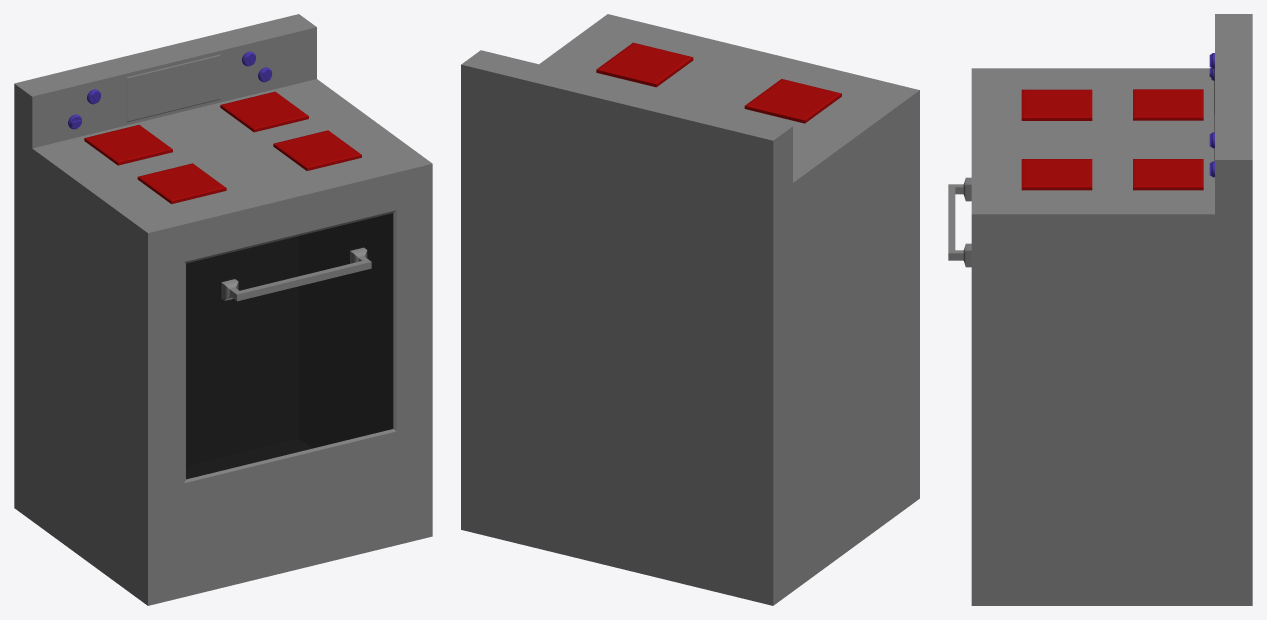
File: stove.fbx
The picture shows the model from 3 angles, left to right: view 1: azimuth 30°, elevation 25°; view 2: azimuth 150°, elevation 25°; view 3: azimuth 270°, elevation 25°; orthographic projection. The views are drawn at different scales.
Parts seen in each view (by area): view 1: pCube14; view 2: pCube14; view 3: pCube14.
Boxes of the visible parts, bbox=[...] form: pCube14: bbox=[14, 14, 432, 605]; pCube14: bbox=[461, 14, 919, 605]; pCube14: bbox=[948, 14, 1252, 605].
Size of the model in its own units: 2.57 by 3.66 by 2.26.
